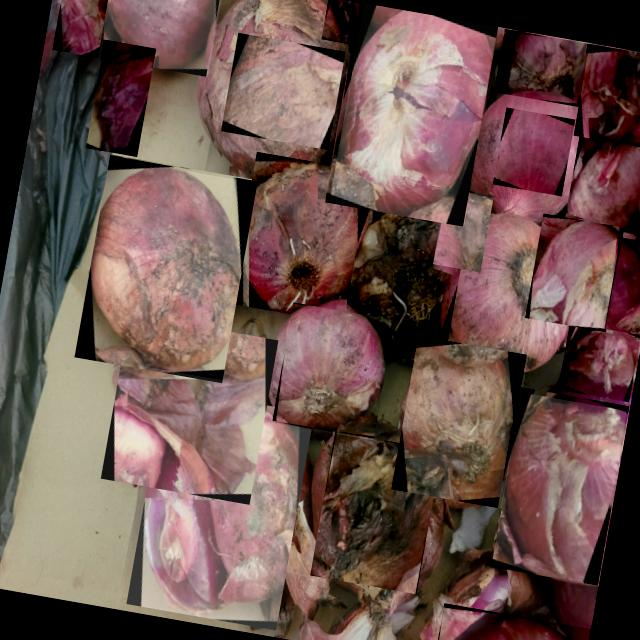healthy: (492, 107, 574, 196)
rotten: (126, 387, 314, 630), (100, 314, 278, 504), (342, 10, 492, 216), (91, 167, 241, 372), (336, 173, 474, 365), (230, 151, 370, 323), (392, 336, 528, 508), (310, 431, 442, 594), (507, 404, 624, 582), (272, 302, 394, 440), (220, 32, 345, 150), (524, 213, 624, 332), (561, 108, 640, 251), (98, 0, 225, 77), (494, 28, 596, 108), (86, 40, 156, 156), (573, 44, 640, 149), (558, 318, 640, 401), (433, 603, 591, 640), (432, 188, 493, 272), (52, 0, 124, 59), (603, 237, 640, 335), (320, 0, 375, 47)
